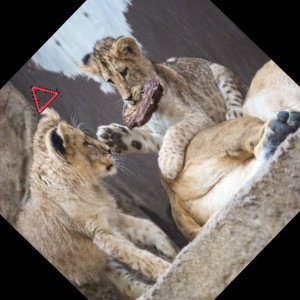triangle: (29, 84, 61, 115)
